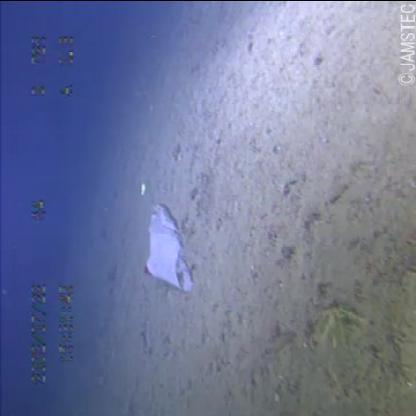Rác: (140, 181, 196, 303)
